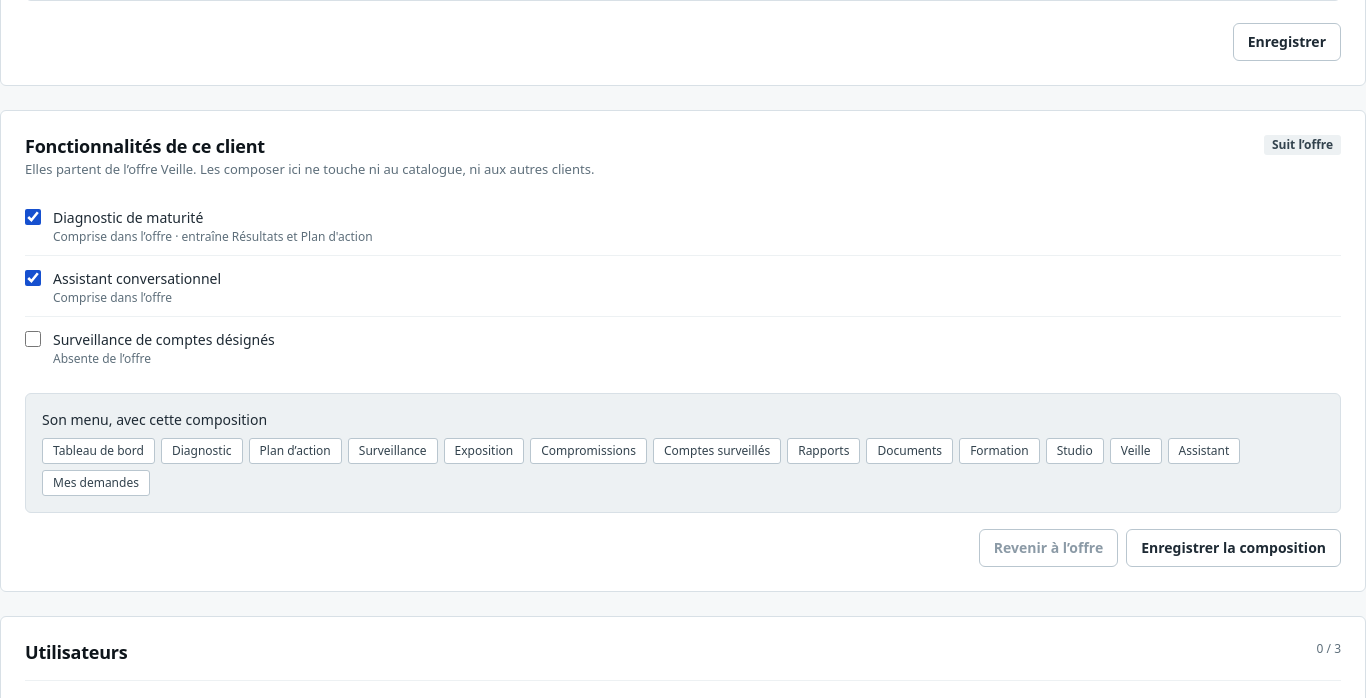
Test case: Composition du périmètre d’un client › affiche le motif d’un refus, sans le résumer
(page scrolled)
Step 1. Click the checkbox labelled "Surveillance de comptes désignés" → (33, 339), box [25, 331, 41, 347]
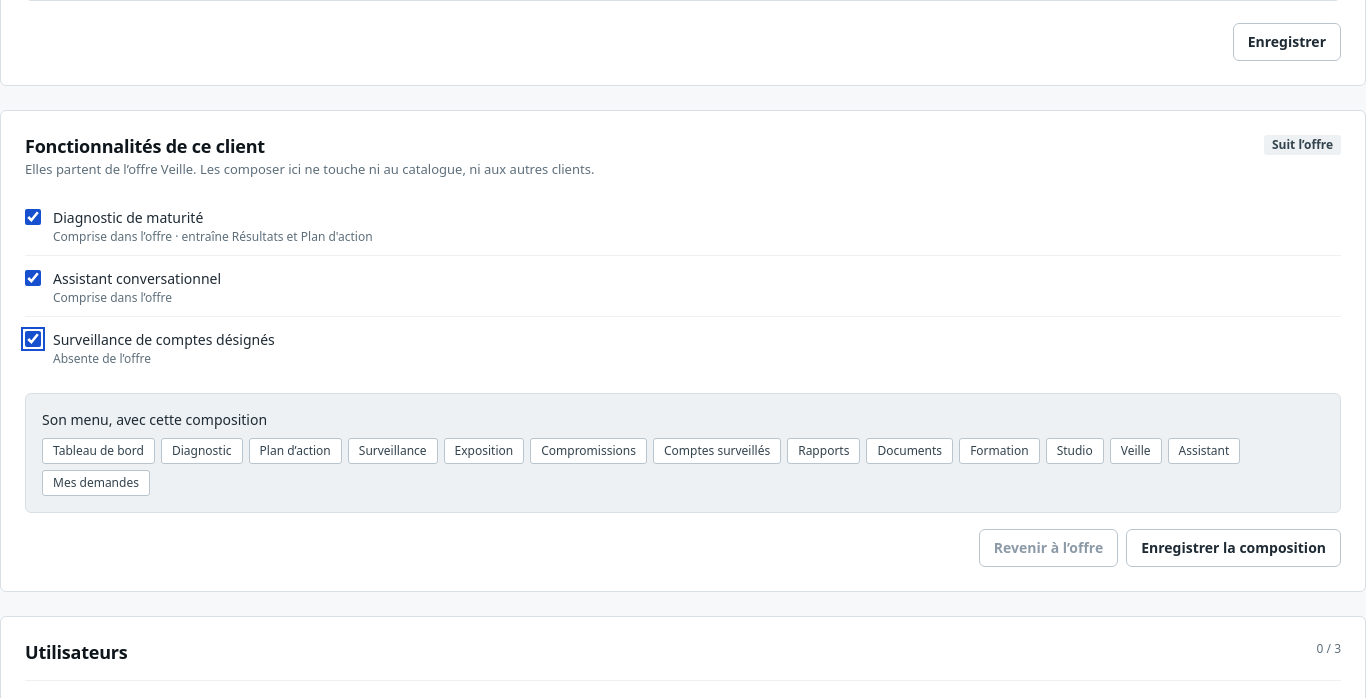
Step 2. Click the button "Enregistrer la composition" → (1234, 548), box [1126, 529, 1341, 567]
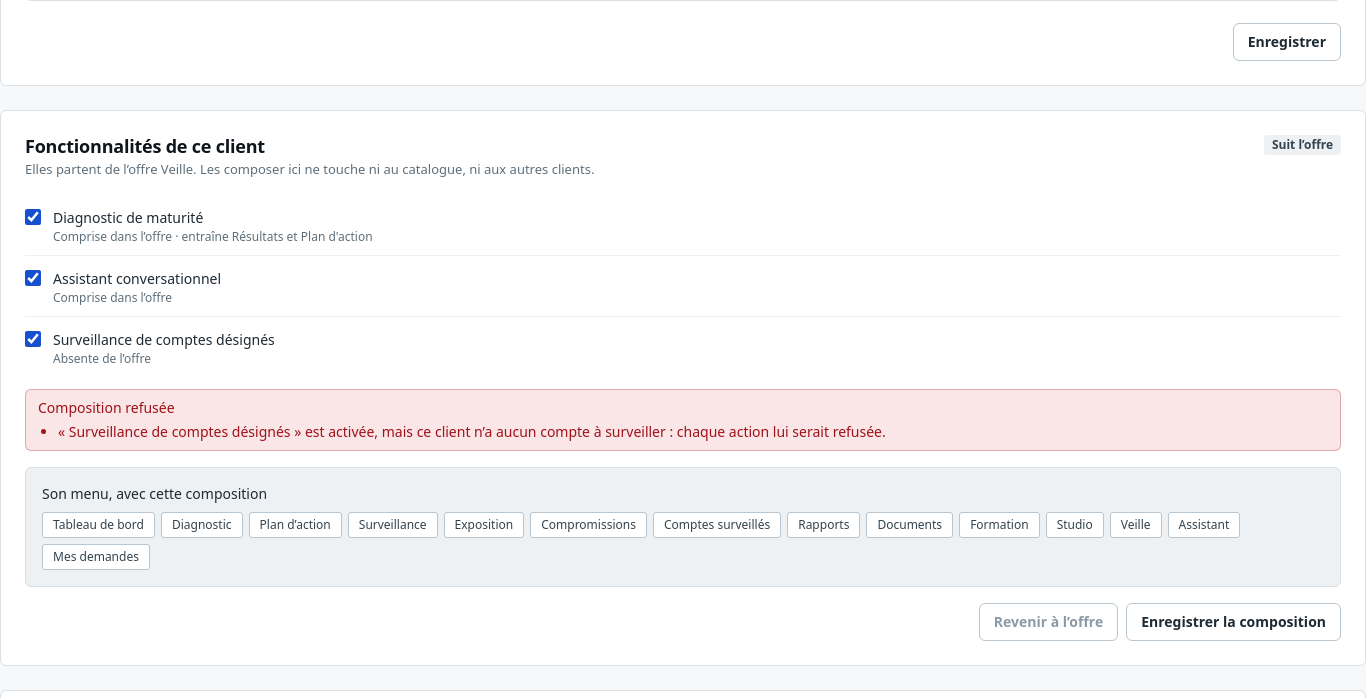
expect the list item "chaque action lui serait refusée" is shown: met, box [58, 422, 886, 441]
